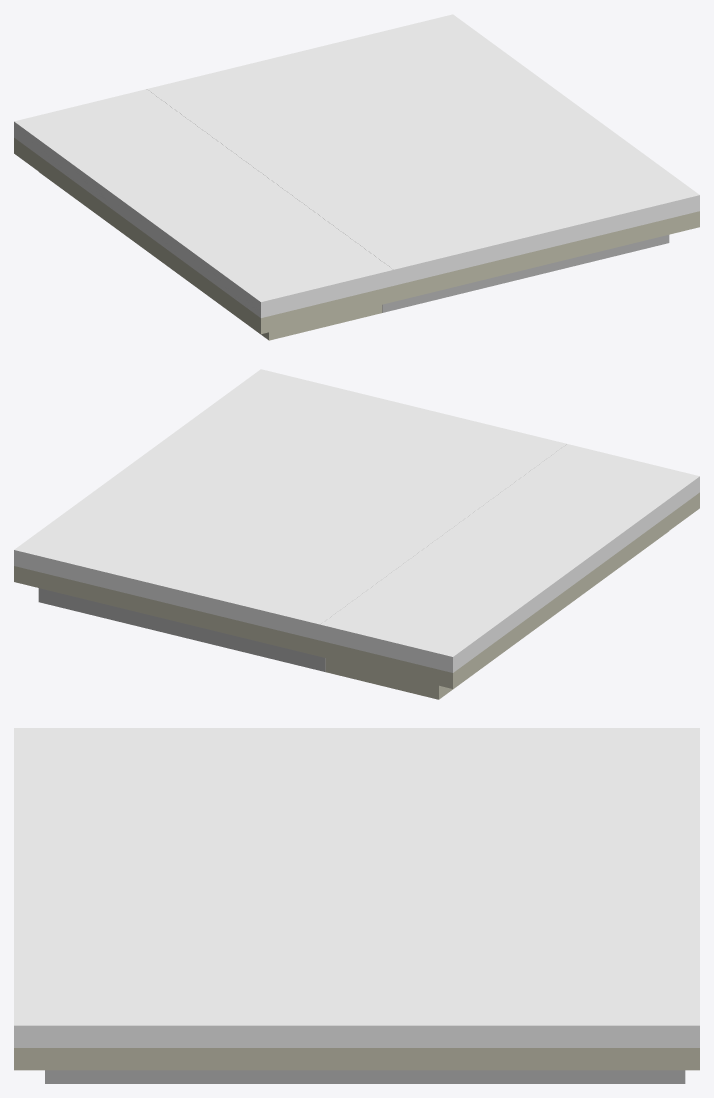
The picture shows the model from 3 angles, top to bottom: view 1: azimuth 30°, elevation 25°; view 2: azimuth 150°, elevation 25°; view 3: azimuth 270°, elevation 25°; orthographic projection. The views are drawn at different scales.
Parts seen in each view (by area): view 1: HIT-08_UpImpluvium, MainModel:0, MainModel:1; view 2: HIT-08_UpImpluvium, MainModel:0, MainModel:1; view 3: HIT-08_UpImpluvium, MainModel:0, MainModel:1.
Boxes of the visible parts, box(x1,y1,x2,y2) form: HIT-08_UpImpluvium: box(14, 14, 699, 317); MainModel:0: box(14, 138, 699, 340); MainModel:1: box(151, 92, 669, 312); HIT-08_UpImpluvium: box(14, 369, 699, 672); MainModel:0: box(14, 492, 699, 699); MainModel:1: box(38, 444, 566, 671); HIT-08_UpImpluvium: box(14, 728, 699, 1047); MainModel:0: box(14, 1048, 699, 1070); MainModel:1: box(45, 1070, 685, 1083).
Bounding box in the file's own units: 1.66 × 0.1882 × 1.62.
